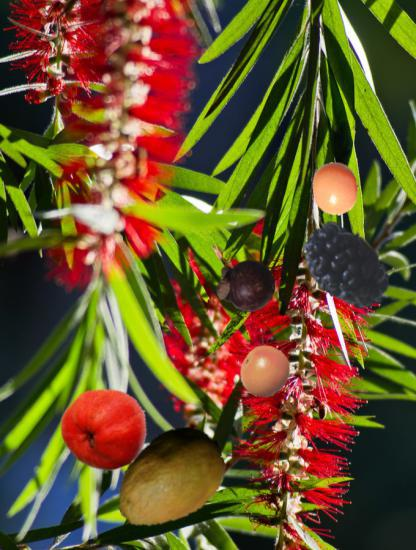Grapefruit: (309, 162, 363, 216), (239, 345, 292, 398)
Mangostan: (211, 253, 276, 318)
Mulberry: (282, 219, 391, 328)
Papaya: (111, 419, 227, 535)
Pear: (61, 385, 149, 473)
